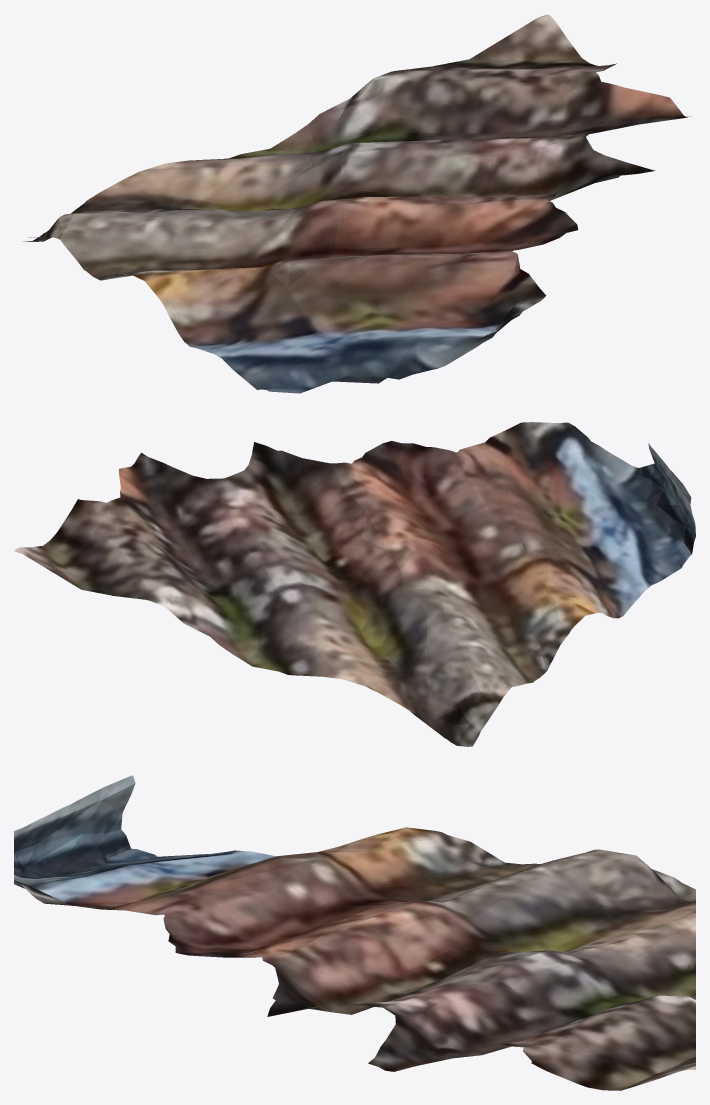
The picture shows the model from 3 angles, top to bottom: view 1: azimuth 30°, elevation 25°; view 2: azimuth 150°, elevation 25°; view 3: azimuth 270°, elevation 25°; orthographic projection. The views are drawn at different scales.
Size of the model in its own units: 0.8374 by 0.1604 by 0.8373.
Materials: 2 (2 with a texture image).
